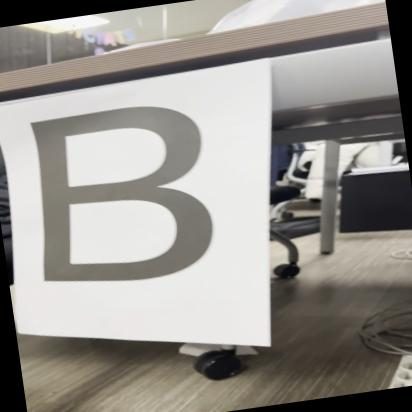seat: (4, 85, 228, 306)
